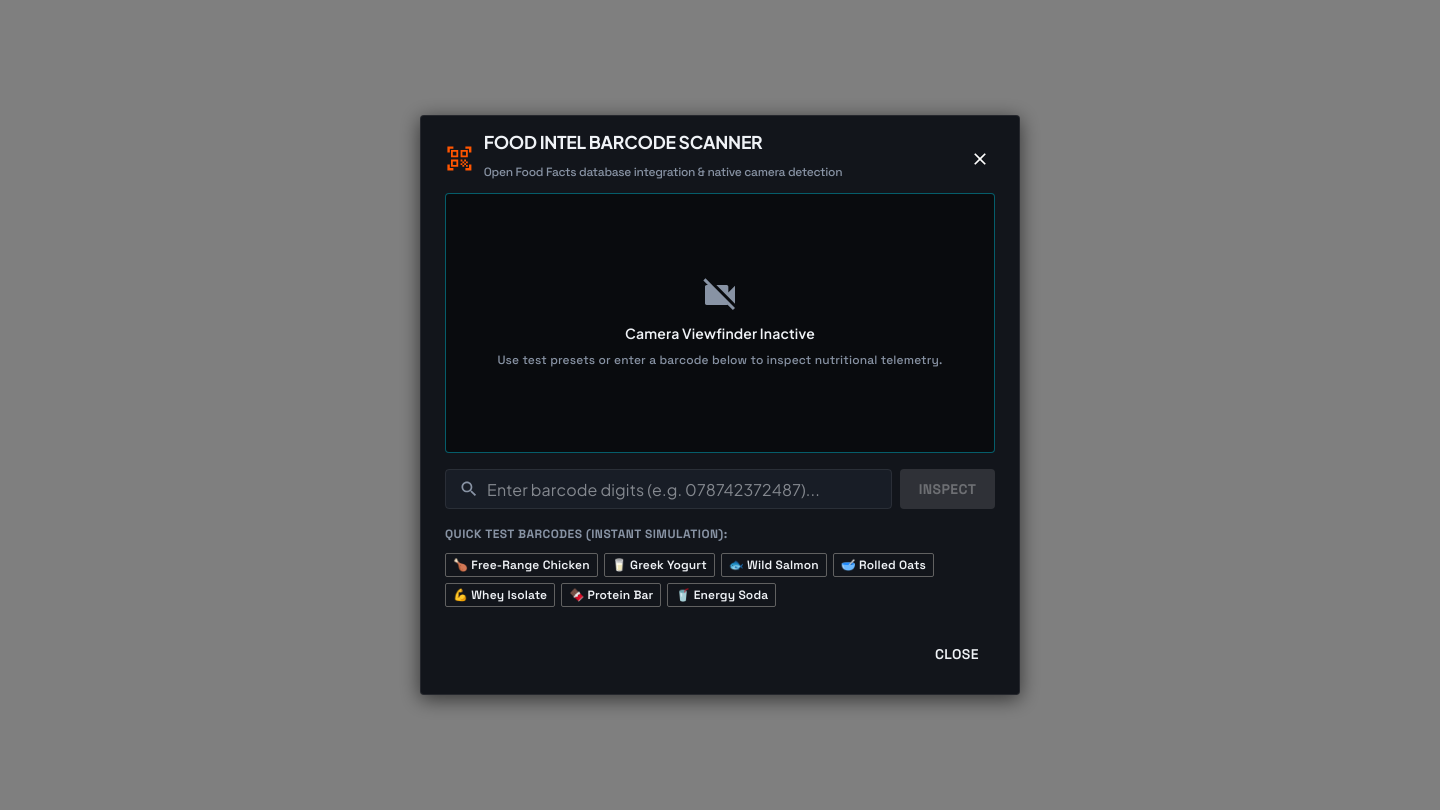
Test: BarcodeScannerModal Component › submits manual barcode digits and handles not found response
In the field with test id "barcode-manual-input": (690, 489) [487,469,892,509], type "999999999999"
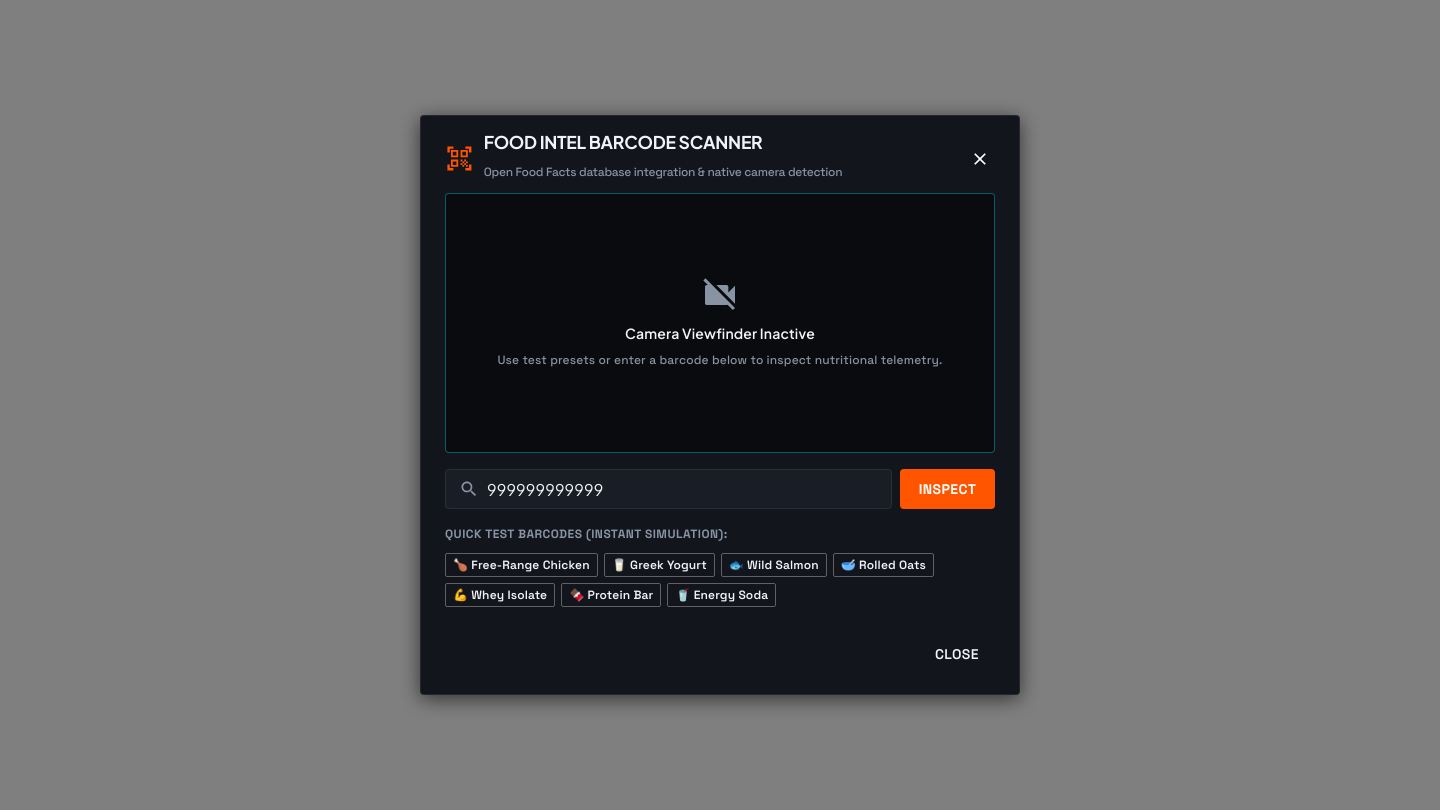
Click the button with test id "barcode-inspect-btn": (948, 489) [900,469,995,509]
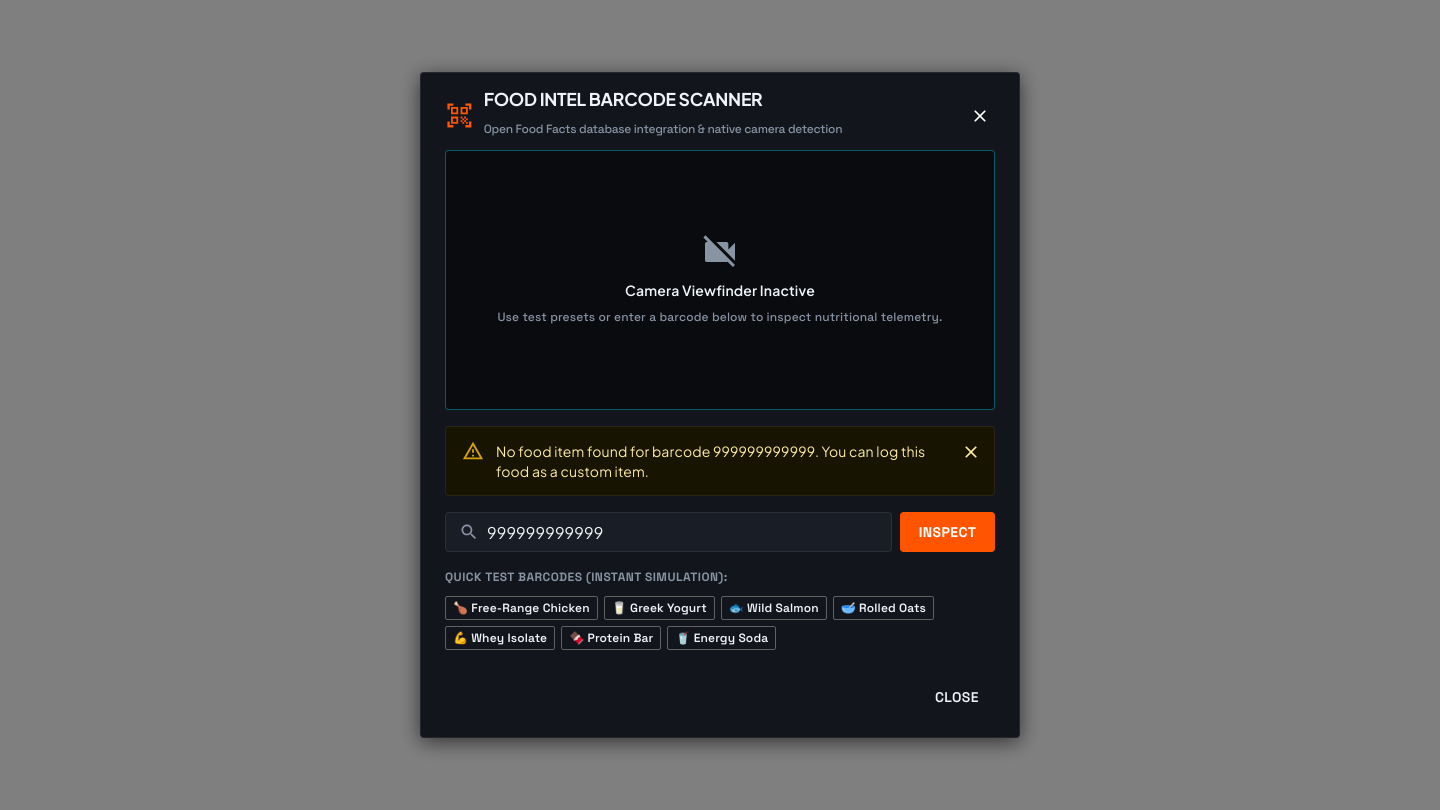
Expected: the text "No food item found for barcode 999999999999" is shown, [496,442,925,480]
